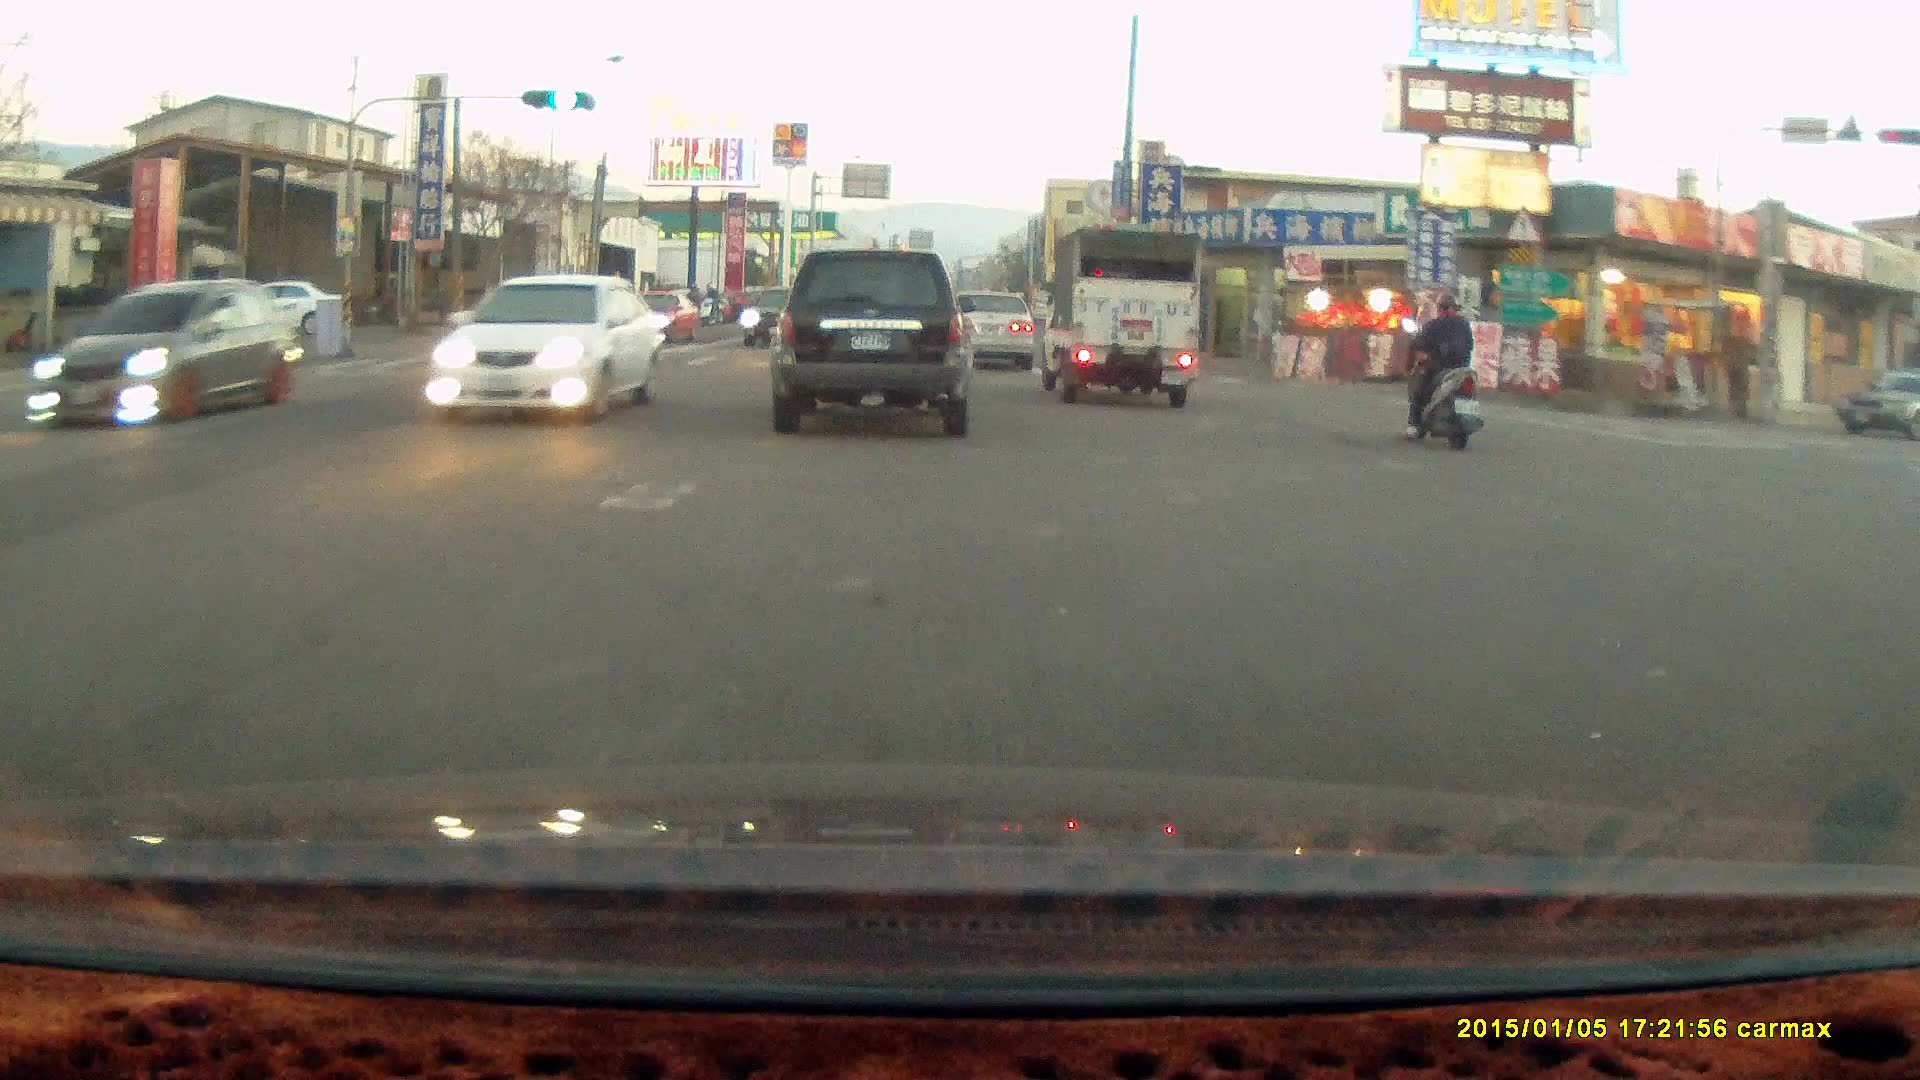rider: (1398, 287, 1484, 446), (697, 281, 723, 326)
vehicle: (26, 276, 284, 426), (768, 246, 971, 435), (435, 274, 662, 413), (1037, 222, 1205, 403), (462, 285, 602, 379), (938, 287, 1034, 371), (208, 280, 348, 331), (951, 293, 1037, 369), (1833, 371, 1920, 443), (606, 288, 702, 344)
